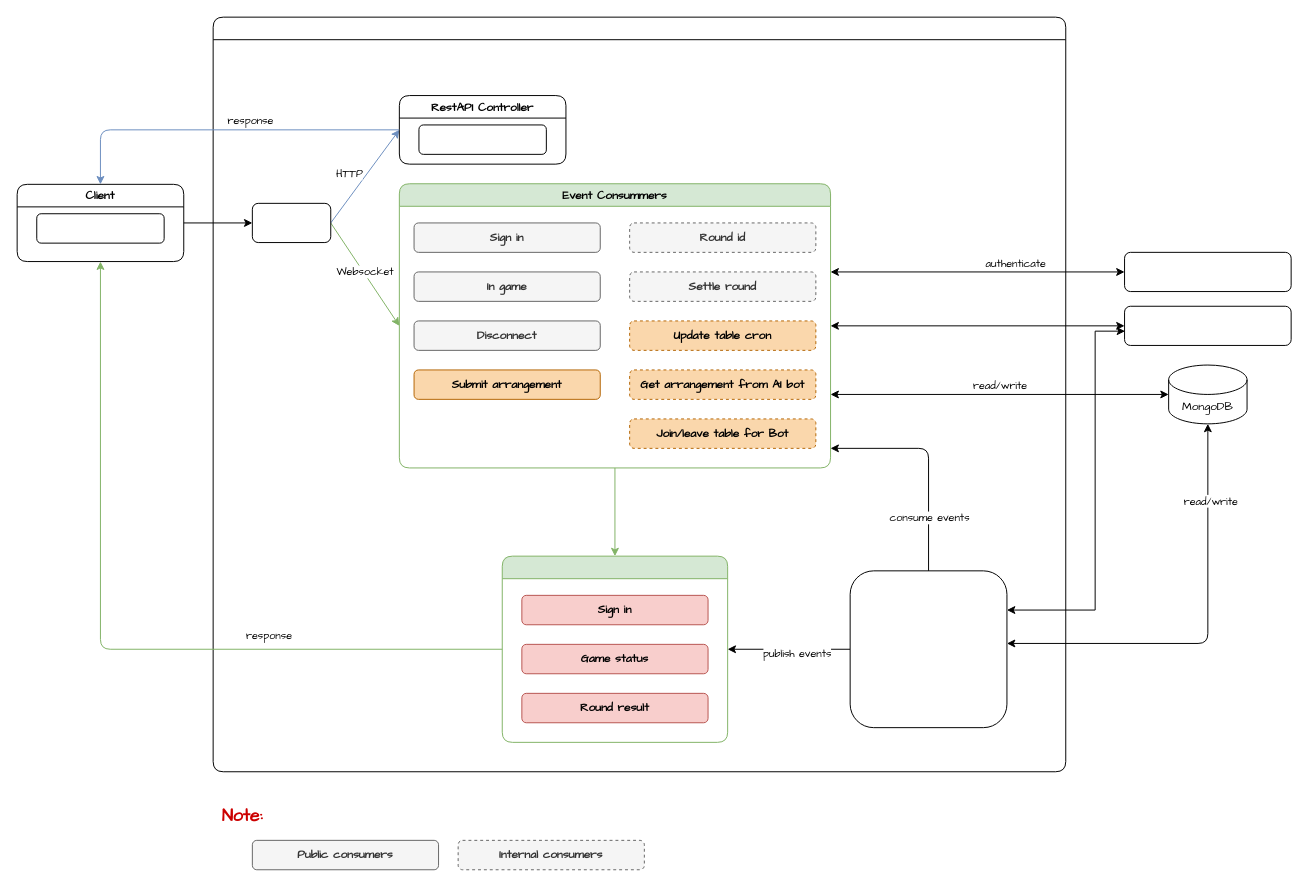
Some shapes in this 1308 by 887 pixel diagram are drawn without their labels. Here are the shapes that lost their labels. From the top down, the box of each, then its label:
(418, 124, 546, 154): Metrics
(36, 213, 164, 243): Game Client
(251, 202, 331, 243): Router
(1124, 251, 1291, 292): User Service
(1124, 305, 1291, 345): Game Management Service
(212, 16, 1066, 772): Game Server
(501, 555, 728, 742): Event Publishers
(849, 570, 1007, 728): Game Cron
